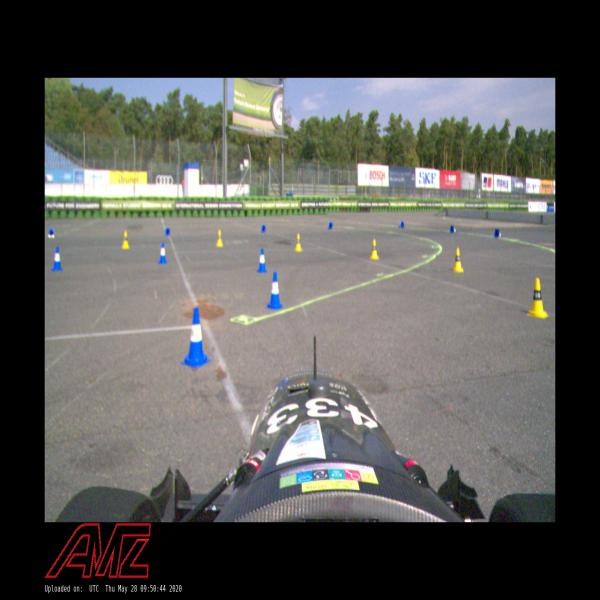blue_cone: (180, 306, 212, 368), (266, 270, 284, 311), (51, 246, 63, 272), (256, 248, 268, 273), (157, 242, 168, 264), (494, 228, 502, 238), (260, 224, 267, 234), (450, 225, 457, 234), (48, 228, 54, 238), (165, 227, 170, 237), (328, 222, 334, 230), (399, 220, 405, 228)
yellow_cone: (527, 276, 549, 318), (452, 248, 465, 273), (369, 238, 380, 260), (121, 231, 130, 250), (294, 234, 303, 252), (216, 230, 224, 246)
